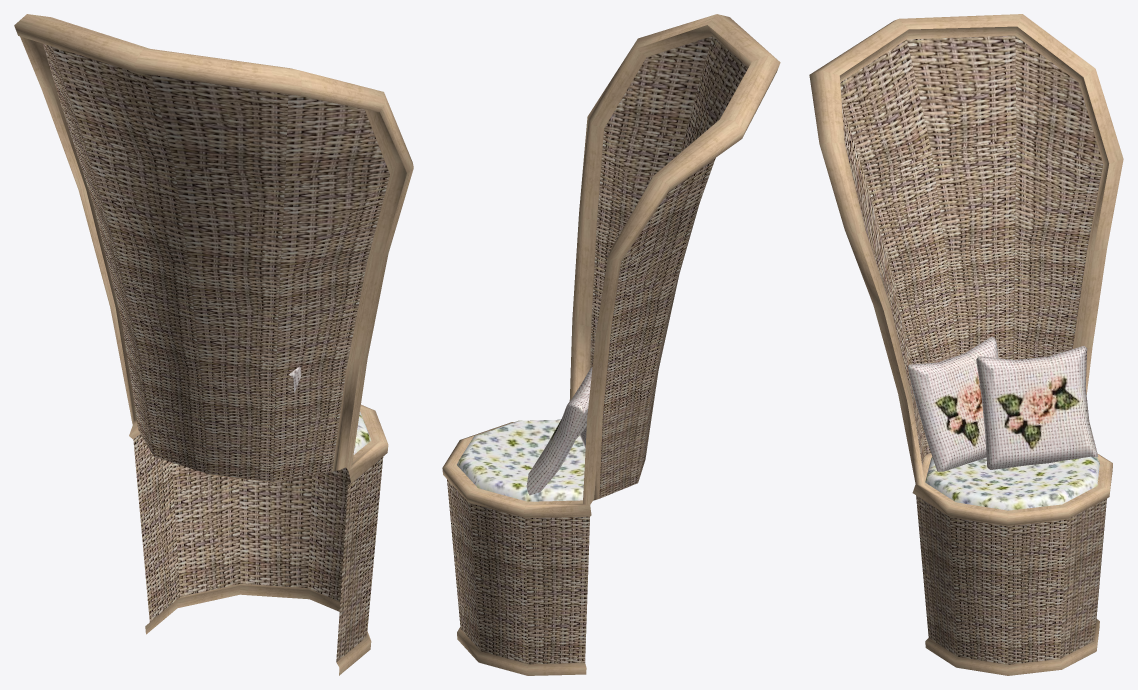
File: Cadeira.fbx
3 views of the same model, side by side, from view 1: azimuth 30°, elevation 25°; view 2: azimuth 150°, elevation 25°; view 3: azimuth 270°, elevation 25° (orthographic). The views are drawn at different scales.
Visible parts, largest first — view 1: Quarto_A_Cadeira; view 2: Quarto_A_Cadeira; view 3: Quarto_A_Cadeira.
Part boxes in pixels (box(x1,y1,x2,y2)): Quarto_A_Cadeira: box(14, 14, 413, 675); Quarto_A_Cadeira: box(442, 14, 780, 675); Quarto_A_Cadeira: box(809, 14, 1123, 675).
Size of the model in its own units: 8494 by 15946 by 8306.
